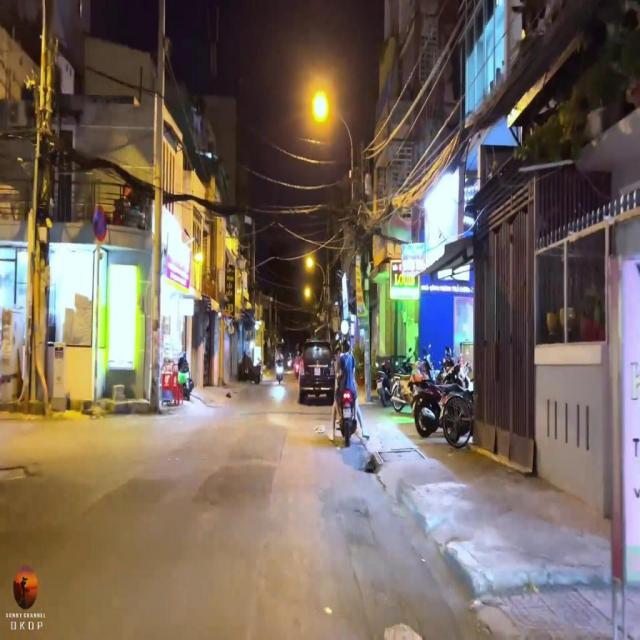cam_dung_xe_va_do_xe: (93, 207, 107, 242)
